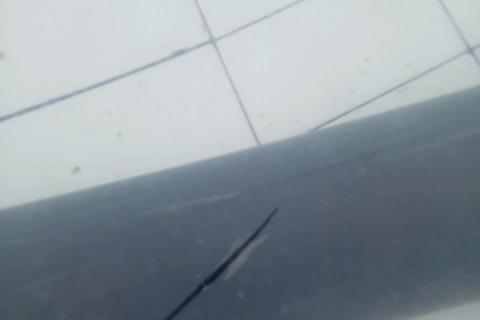keretakan: (164, 205, 280, 319)
